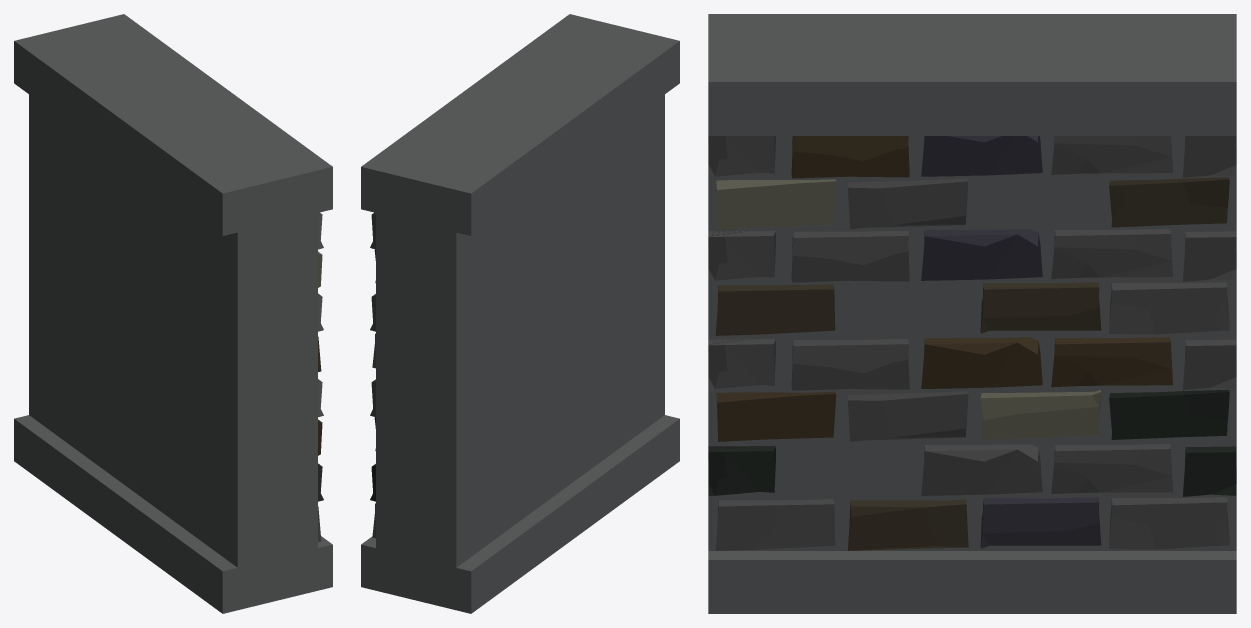
Rendered from Wall2.fbx.
3 renders of one model, left to right at view 1: azimuth 30°, elevation 25°; view 2: azimuth 150°, elevation 25°; view 3: azimuth 270°, elevation 25°, orthographic. The views are drawn at different scales.
Visible parts, largest first — view 1: Cube.141; view 2: Cube.141; view 3: Cube.141.
Part boxes in pixels (x1,y1,x2,y2): Cube.141: [14, 14, 332, 613]; Cube.141: [361, 14, 679, 613]; Cube.141: [708, 14, 1236, 613].
Bounding box in the file's own units: 137 × 500 × 450.
